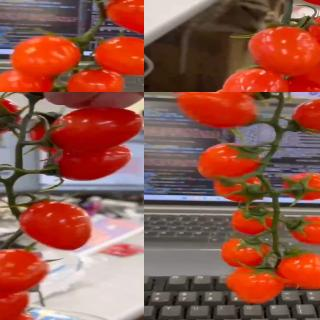tomato: (48, 104, 144, 154), (18, 200, 94, 252), (247, 25, 320, 78), (50, 142, 130, 180), (177, 92, 259, 129), (11, 35, 81, 76), (197, 142, 263, 181), (0, 248, 50, 293), (92, 35, 144, 77), (228, 270, 286, 306), (217, 237, 276, 268), (221, 66, 289, 92), (277, 251, 320, 290), (212, 174, 266, 203), (103, 0, 144, 37), (70, 68, 126, 92), (232, 206, 274, 236), (0, 70, 55, 92), (289, 97, 320, 133), (0, 282, 29, 320), (285, 172, 320, 200), (289, 215, 320, 246), (0, 95, 22, 138), (302, 46, 320, 90)
